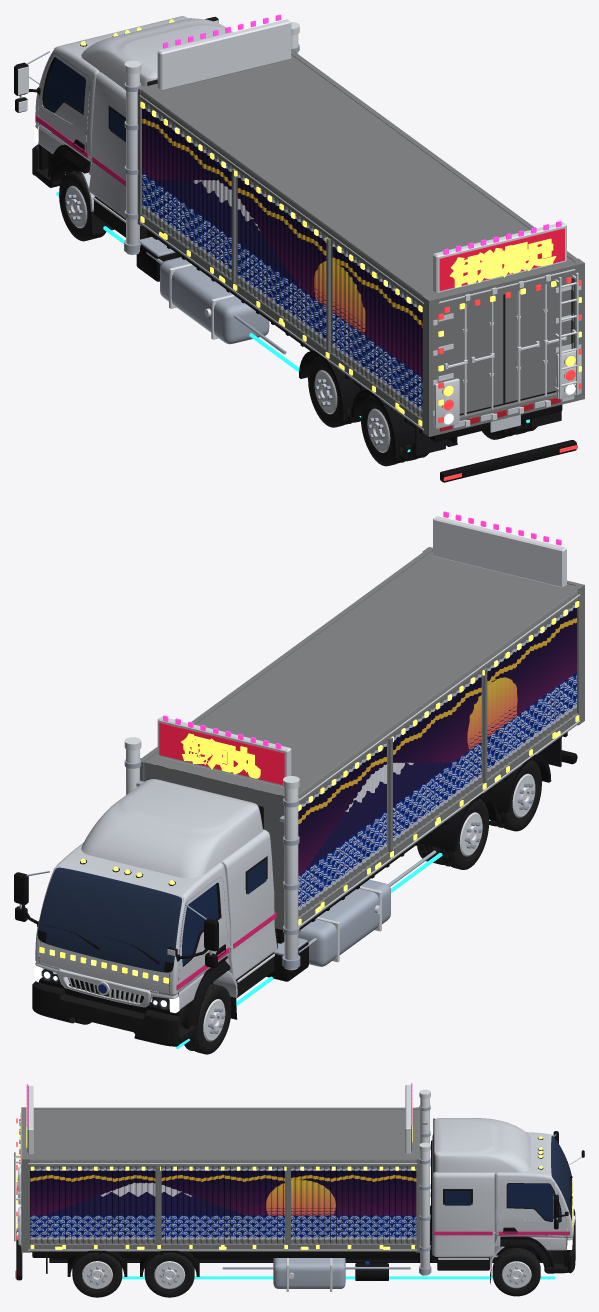
File: dekotora_truck_base_chata.glb
3 renders of one model, top to bottom at view 1: azimuth 30°, elevation 25°; view 2: azimuth 150°, elevation 25°; view 3: azimuth 270°, elevation 25°, orthographic. The views are drawn at different scales.
Parts seen in each view (by area): view 1: truck_paint_white_box, truck_mural, truck_chrome, truck_box_metal, truck_paint_white_panel, truck_plastic_black, truck_steel, truck_lamp_amber, wheel_r_L_1.5_1.06, truck_glass, wheel_r_L_3.0_1.06, wheel_f_L (+6 smaller); view 2: truck_paint_white_box, truck_mural, truck_paint_white_panel, truck_chrome, truck_box_metal, truck_glass_wind, truck_plastic_black, truck_steel, truck_plastic_trim, truck_lamp_amber, truck_andon_panel, wheel_f_L (+4 smaller); view 3: truck_mural, truck_paint_white_box, truck_paint_white_panel, truck_box_metal, truck_plastic_black, truck_chrome, truck_steel, wheel_f_R, wheel_r_R_1.5_1.06, wheel_r_R_3.0_1.06, truck_glass, truck_plastic_trim (+5 smaller).
Boxes of the visible parts, box(x1,y1,x2,y2) form: truck_paint_white_box: box(142, 55, 574, 418); truck_mural: box(142, 106, 422, 412); truck_chrome: box(18, 19, 581, 430); truck_box_metal: box(137, 50, 584, 436); truck_paint_white_panel: box(35, 16, 232, 218); truck_plastic_black: box(14, 16, 576, 482); truck_steel: box(19, 17, 299, 354); truck_lamp_amber: box(80, 19, 581, 426); wheel_r_L_1.5_1.06: box(361, 395, 412, 466); truck_glass: box(44, 58, 125, 141); wheel_r_L_3.0_1.06: box(308, 356, 356, 427); wheel_f_L: box(59, 170, 105, 241); truck_paint_white_box: box(144, 551, 576, 929); truck_mural: box(154, 605, 576, 910); truck_paint_white_panel: box(35, 779, 276, 1009); truck_chrome: box(28, 516, 580, 1007); truck_box_metal: box(140, 547, 584, 927); truck_glass_wind: box(38, 867, 181, 972); truck_plastic_black: box(14, 732, 576, 1028); truck_steel: box(19, 759, 436, 968); truck_plastic_trim: box(32, 778, 274, 1046); truck_lamp_amber: box(39, 601, 579, 983); truck_andon_panel: box(159, 723, 284, 784); wheel_f_L: box(184, 983, 231, 1054); truck_mural: box(30, 1168, 416, 1239); truck_paint_white_box: box(25, 1109, 420, 1243); truck_paint_white_panel: box(432, 1118, 572, 1269); truck_box_metal: box(21, 1107, 421, 1252); truck_plastic_black: box(16, 1131, 584, 1280); truck_chrome: box(14, 1085, 584, 1291); truck_steel: box(222, 1105, 557, 1288); wheel_f_R: box(492, 1248, 540, 1296); wheel_r_R_1.5_1.06: box(72, 1252, 122, 1297); wheel_r_R_3.0_1.06: box(144, 1252, 194, 1297); truck_glass: box(445, 1183, 560, 1221); truck_plastic_trim: box(433, 1118, 575, 1273).
Size of the model in its own units: 3.33 by 3.91 by 11.85.
Materials: 24 (7 with a texture image).
